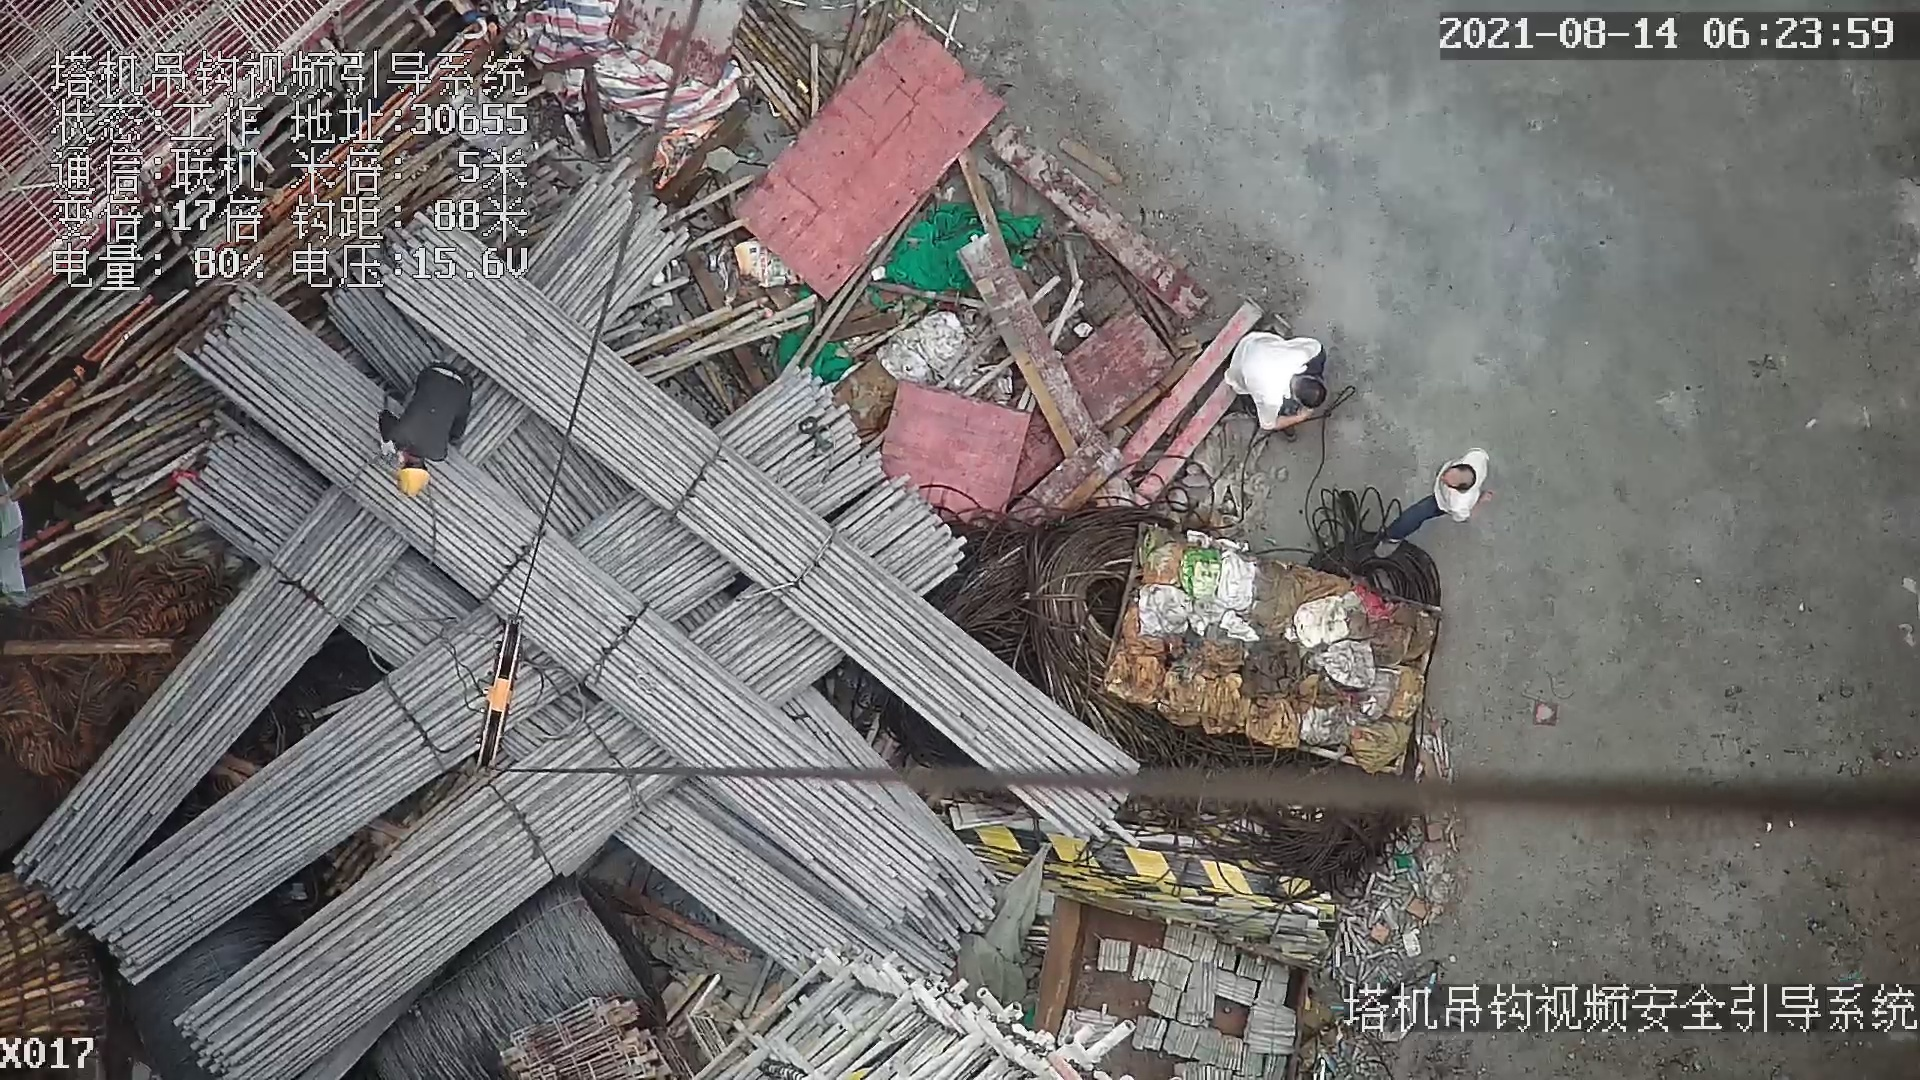helmet: (398, 467, 428, 495)
hook: (465, 613, 535, 773)
person: (1382, 436, 1496, 563), (374, 364, 477, 500), (1218, 326, 1342, 437)
rebar: (185, 288, 944, 931), (392, 281, 1140, 846), (62, 610, 579, 988), (171, 706, 685, 1080), (17, 485, 409, 918)
wood: (1, 870, 111, 1037)
